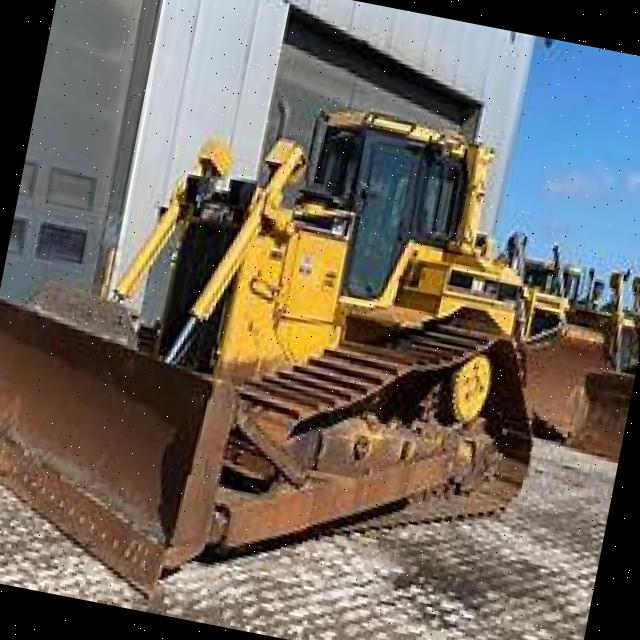Bulldozer: (0, 39, 598, 640)
